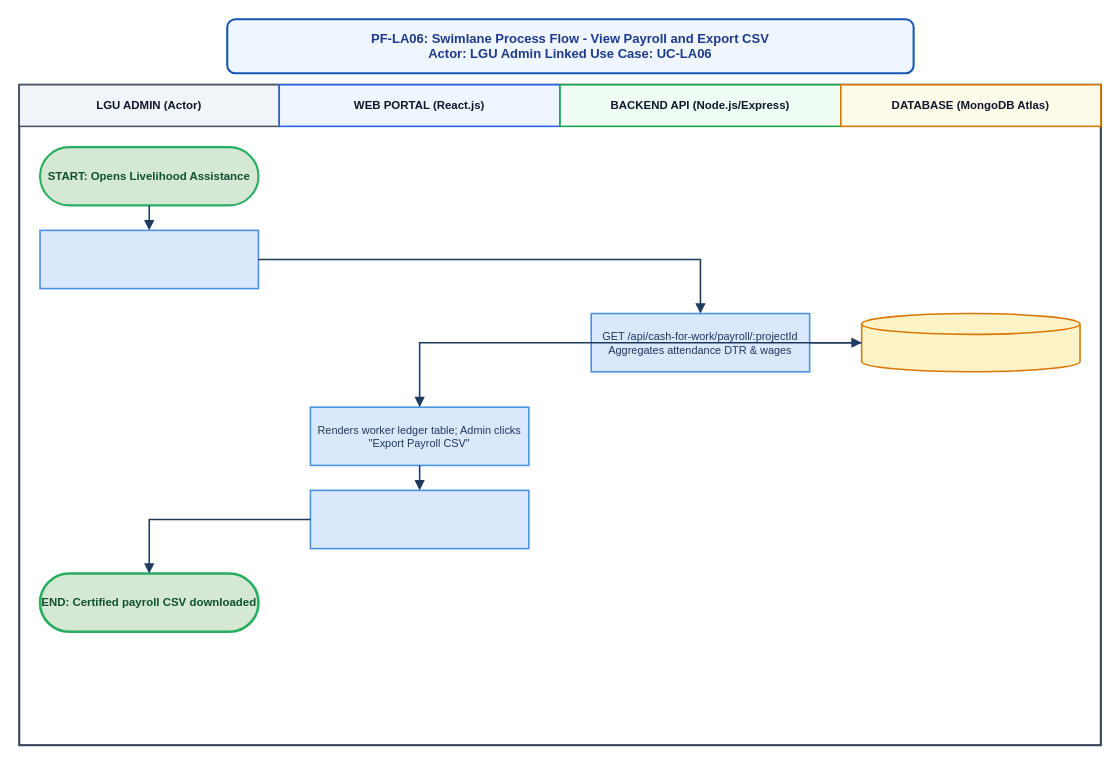
The diagram is 1119 pixels wide and 763 high, and some of its shapes have lost their labels. The box of each missing label's shape, as (x1, y1, x2, y2) in pixels:
Generates COA-compliant CSV with vouchers, days worked, and net pay: (309, 489, 529, 549)
MongoDB: Queries daily AttendanceRecords & worker wage ledger: (860, 312, 1080, 372)
Selects active Cash-for-Work recovery project from list: (39, 229, 259, 289)
